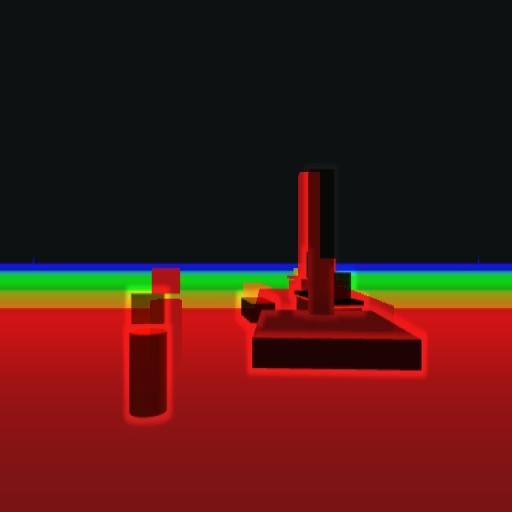buoy: (127, 288, 168, 422)
